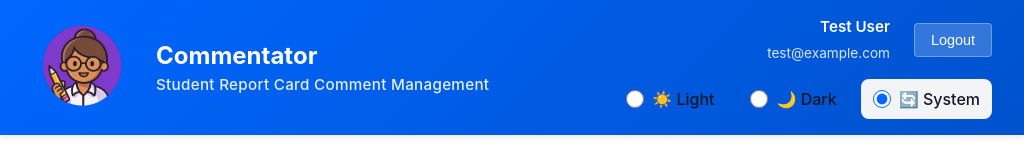
Test: Header › Logout Button › should show loading text while logging out
This screenshot has width=1024, height=160.
Click the button "Logout" at (953, 40), box [914, 23, 992, 57]
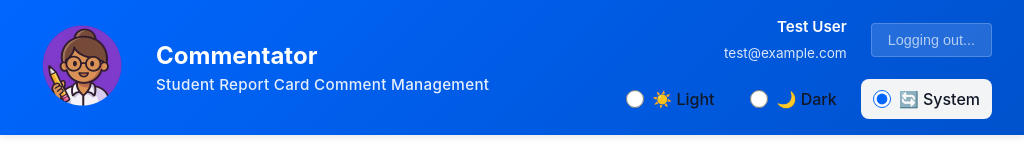
Expected: the button with aria-label "logout" reads "Logging out...", [871, 23, 992, 57]
